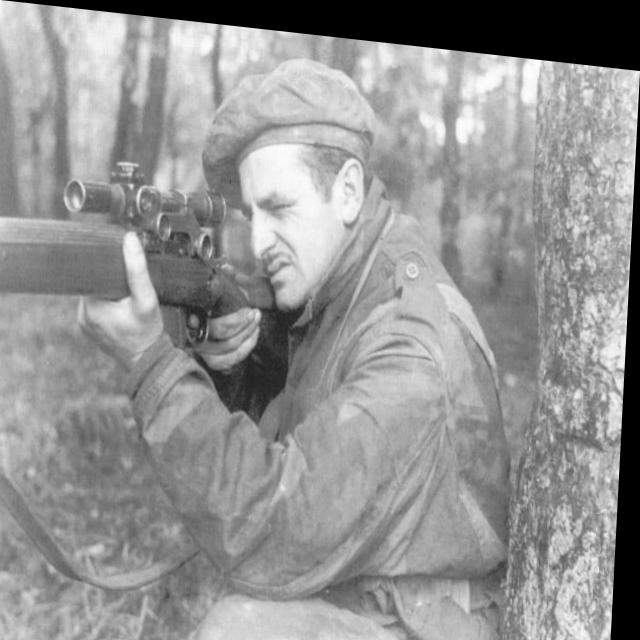other: (136, 51, 532, 640)
